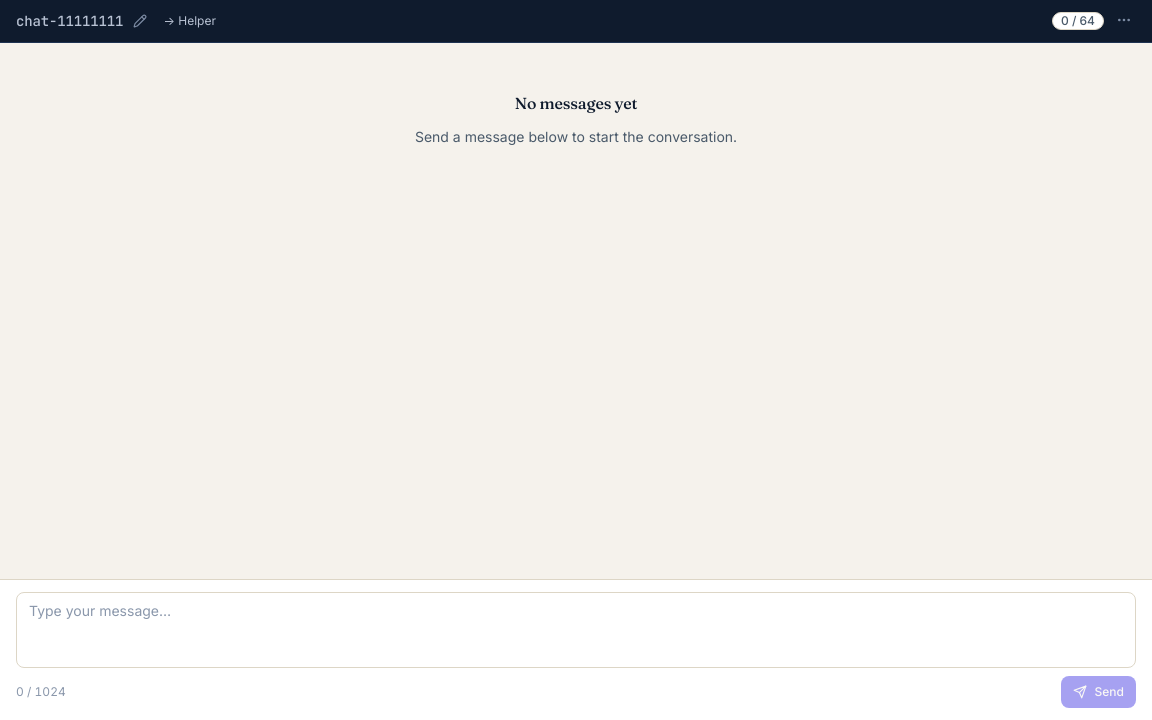
Test: ConversationView — streaming integration (US-07-005) › 429 RATE_LIMITED with Retry-After: 5 → toast surfaces the countdown
Type "hi" into the text box with test id "composer-textarea".
click(576, 630); type("hi")  # box [16,592,1136,668]
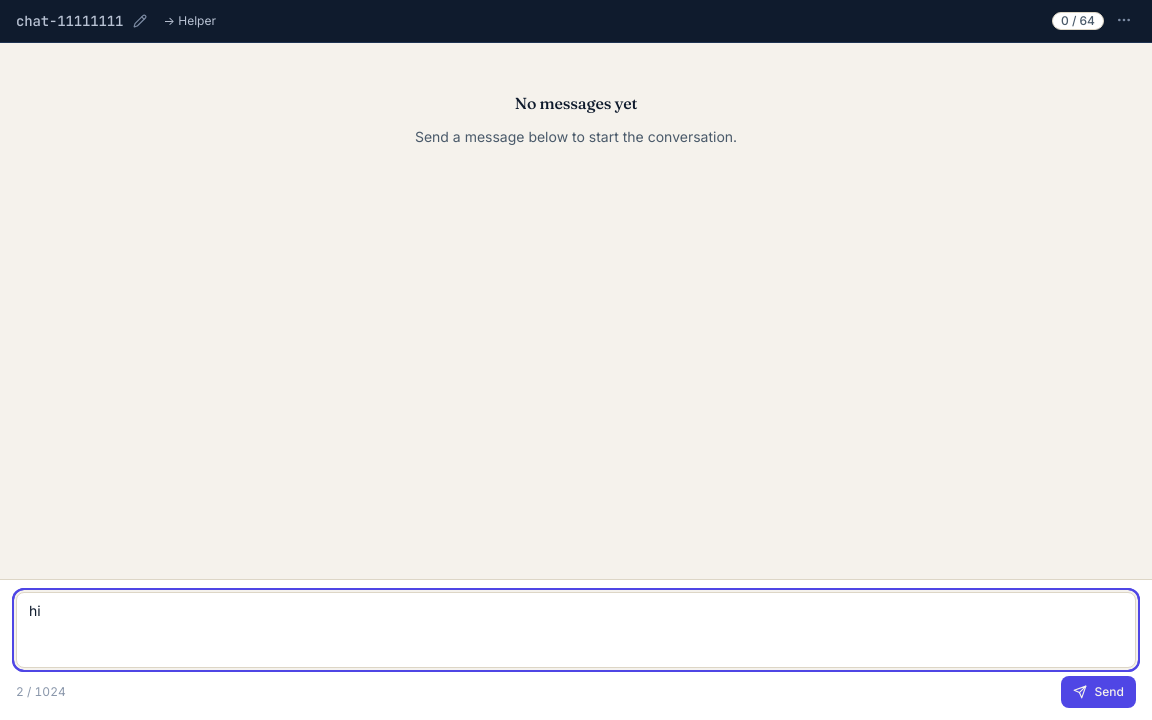
Type keys "{Control>}{Enter}{/Control}"
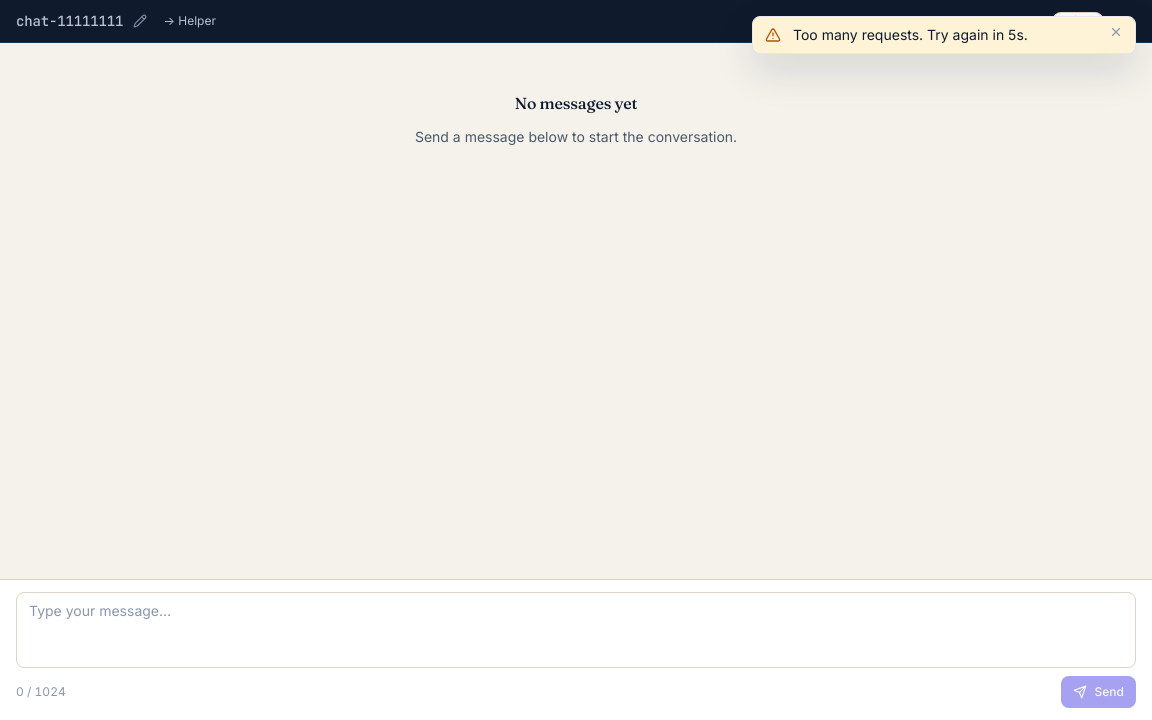
Check: the element with test id "toast-warning" is shown, box [752,16,1136,54]
Check: the element with test id "toast-warning" shows "Try again in 5s", box [793,26,1028,43]
